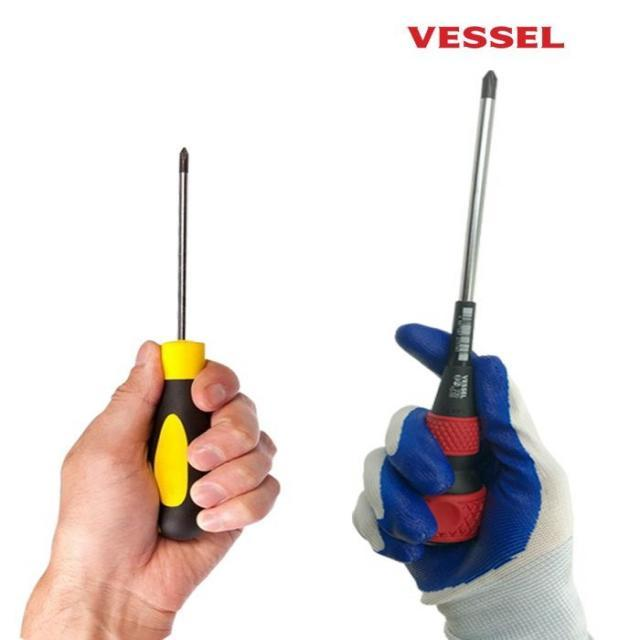screwdriver: (396, 63, 506, 560), (128, 135, 219, 550)
